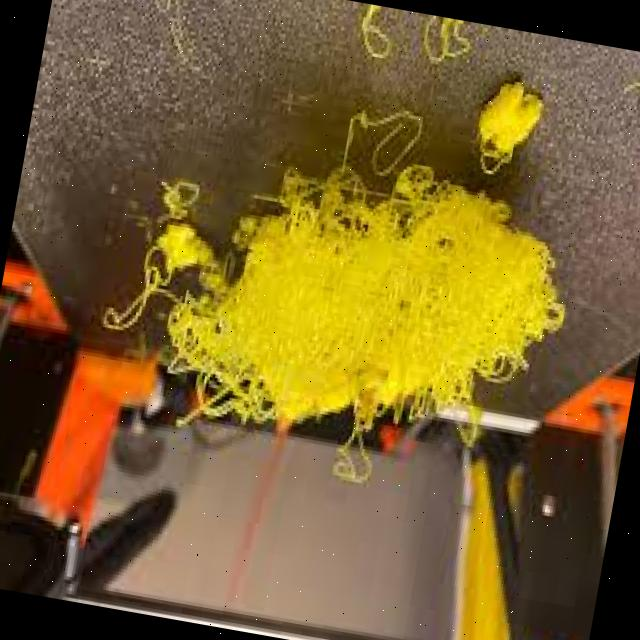spaghetti: (58, 0, 608, 540)
